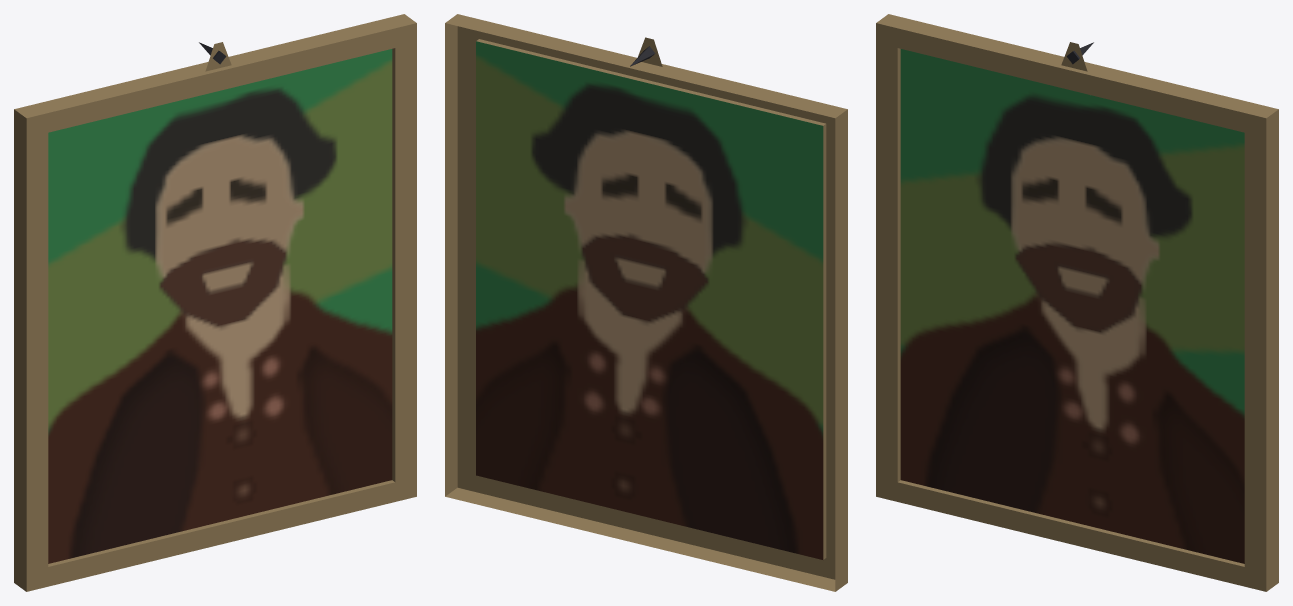
Rendered from Paint_4.fbx.
The picture shows the model from 3 angles, left to right: view 1: azimuth 30°, elevation 25°; view 2: azimuth 150°, elevation 25°; view 3: azimuth 330°, elevation 25°; orthographic projection.
Visible parts, largest first — view 1: polySurface1522; view 2: polySurface1522; view 3: polySurface1522.
Boxes of the visible parts, x1,y1,x2,y2 form: polySurface1522: (14, 14, 416, 591); polySurface1522: (445, 14, 847, 591); polySurface1522: (876, 14, 1278, 591).
Bounding box in the file's own units: 109 × 133 × 11.26.
